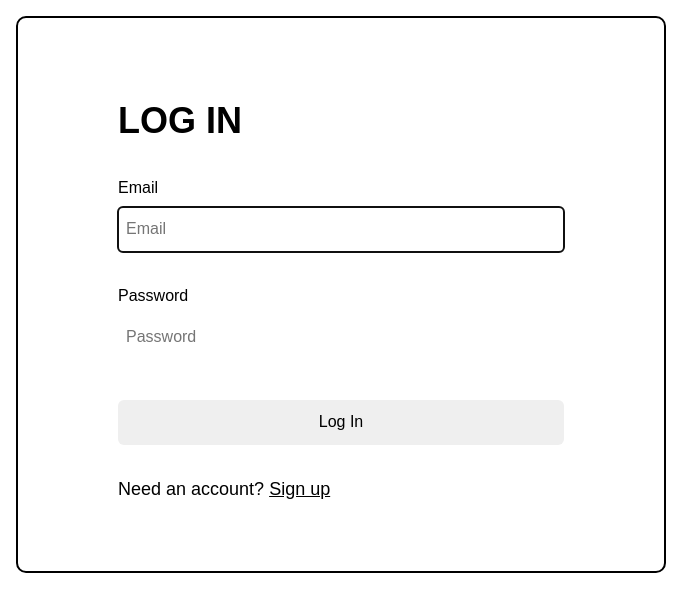
LoginForm component › renders SignupForm elements
Click the text "Sign up" at (300, 489), box [269,479,330,499]
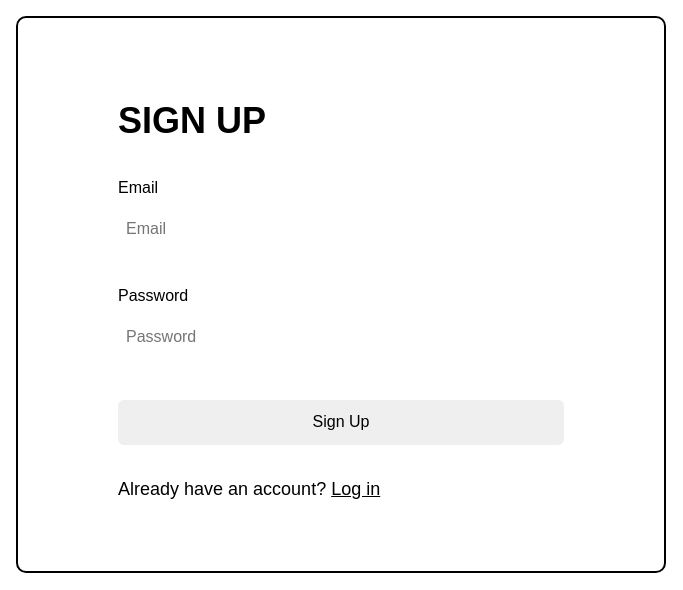
Expected: the heading "SIGN UP" is shown, [118,100,266,141]
Expected: the button "Sign Up" is shown, [118,400,564,445]
Expected: the text "Log in" is shown, [331,479,380,499]
